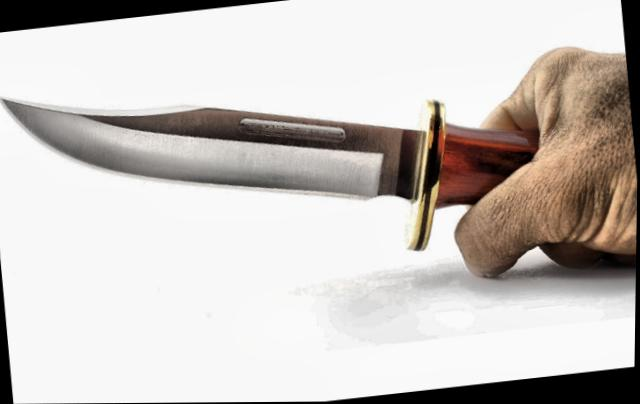knife: (0, 28, 586, 338)
